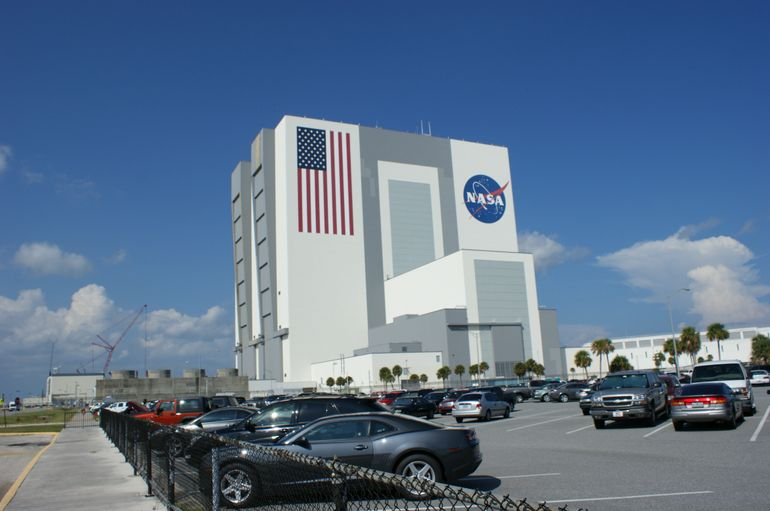NASA: (463, 174, 509, 224)
